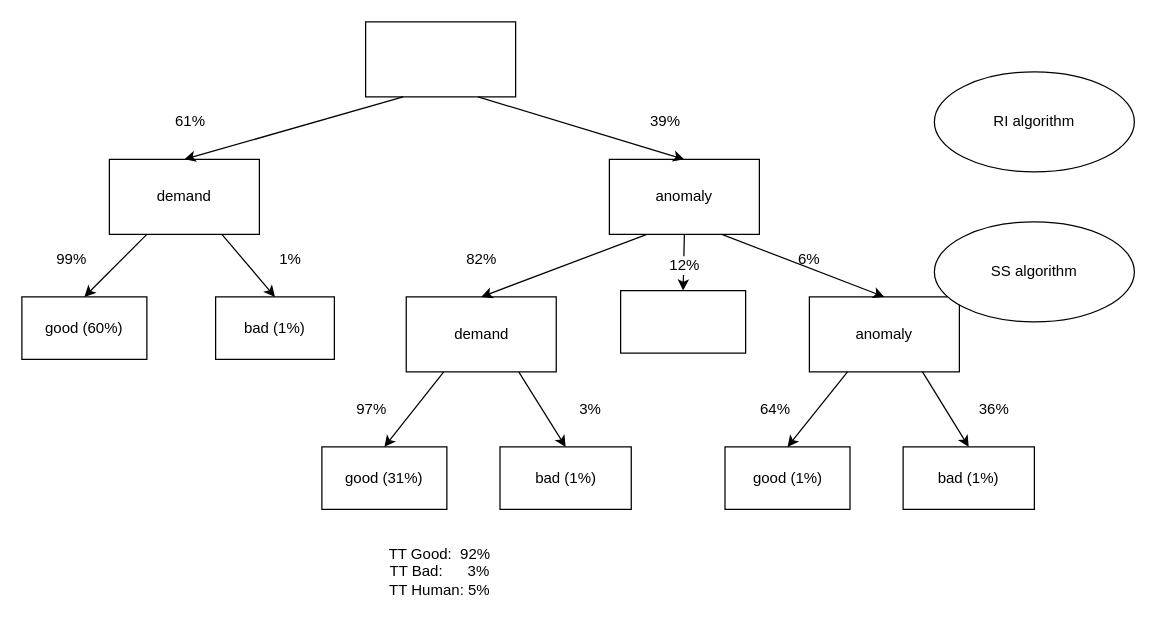
Image size: 1156x631. Some labels were removed from this diagram. Each missing label, with the centre of its shape:
"human (5%)" belongs at (x=682, y=321).
"tracker" belongs at (x=440, y=59).
